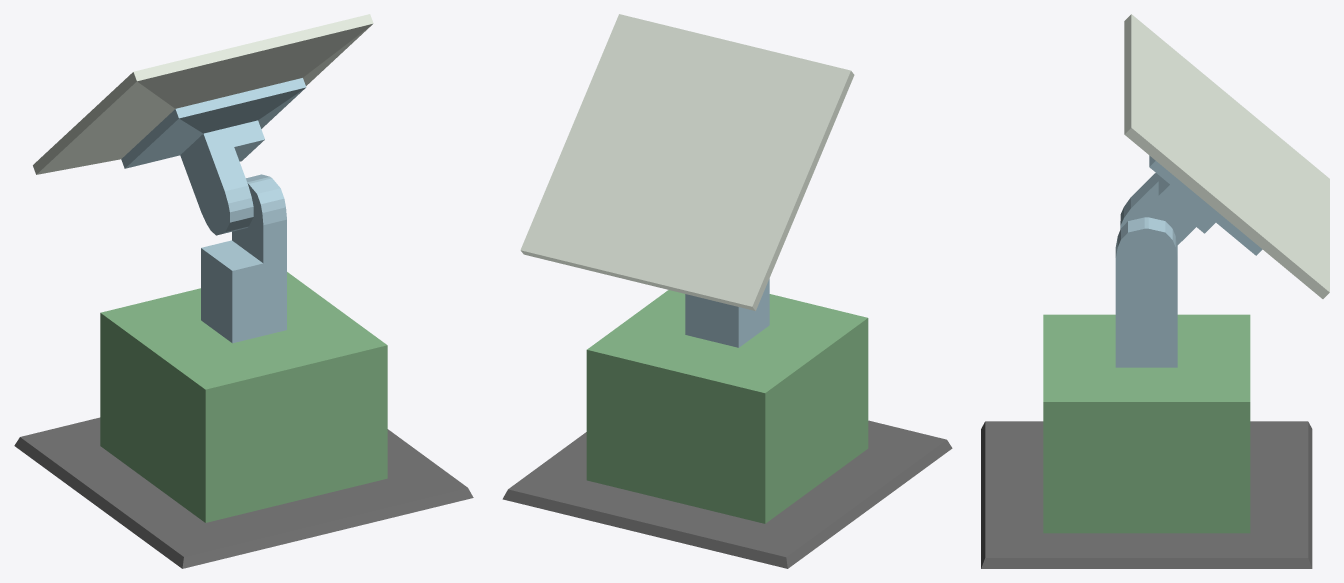
The model's file is satelite_dish.gltf.
3 renders of one model, left to right at view 1: azimuth 30°, elevation 25°; view 2: azimuth 150°, elevation 25°; view 3: azimuth 270°, elevation 25°, orthographic. The views are drawn at different scales.
Visible parts, largest first — view 1: baseplate, upper_panel, lower; view 2: baseplate, upper_panel, lower; view 3: baseplate, upper_panel, lower.
Part boxes in pixels (x1,y1,x2,y2): baseplate: [14, 272, 473, 568]; upper_panel: [33, 14, 373, 235]; lower: [201, 174, 286, 343]; baseplate: [502, 290, 952, 568]; upper_panel: [520, 14, 854, 310]; lower: [685, 278, 769, 347]; baseplate: [981, 314, 1312, 568]; upper_panel: [1120, 14, 1329, 298]; lower: [1115, 217, 1177, 367].
Bounding box in the file's own units: 1 × 1.43 × 1.05.
Materials: 3 (3 with a texture image).
